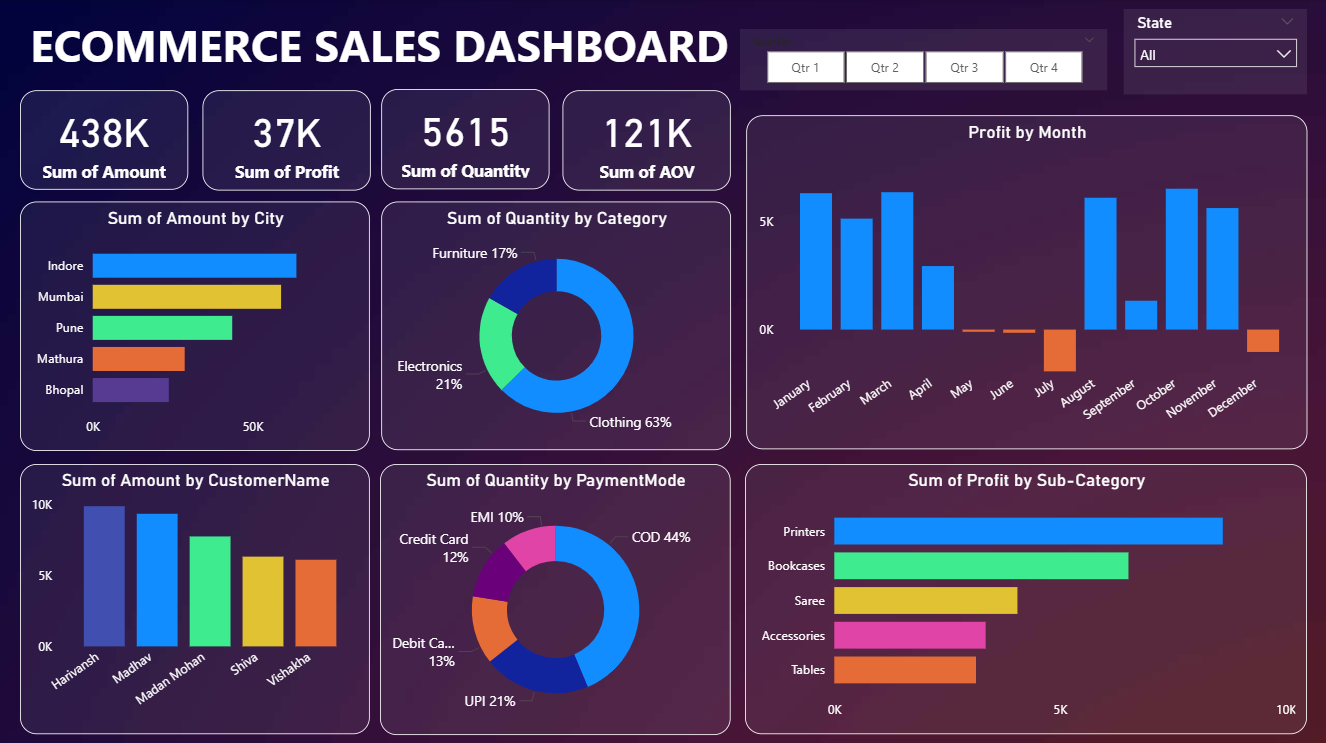

Layout of this report page (visuals, bound fields, positions):
{"tool":"powerbi","page":{"name":"Page 1","canvas":[1280,720],"ordinal":0},"visuals":[{"type":"textbox","box":[8.4,9.8,699.7,78.5],"z":0},{"type":"columnChart","title":"Profit by Month","fields":{"Y":["Details.Profit"],"Category":["Orders.Order Date.Variation.Date Hierarchy.Month"]},"box":[720.8,112.2,541.3,322.5],"z":1000},{"type":"barChart","fields":{"Category":["Details.Sub-Category"],"Y":["Details.Profit"]},"box":[719.4,448.7,542.7,260.8],"z":2000},{"type":"donutChart","fields":{"Category":["Details.Category"],"Y":["Details.Quantity"]},"box":[367.4,194.9,337.9,239.8],"z":3000},{"type":"donutChart","fields":{"Y":["Details.Quantity"],"Category":["Details.PaymentMode"]},"box":[367.1,448.6,338.6,261.4],"z":4000},{"type":"card","fields":{"Values":["Details.Amount"]},"box":[19.6,88.3,162,96],"z":5000},{"type":"card","fields":{"Values":["Details.Profit"]},"box":[194.9,88.3,162.7,96.8],"z":6000},{"type":"card","fields":{"Values":["Details.Quantity"]},"box":[367.4,86.9,162,96.8],"z":7000},{"type":"card","fields":{"Values":["Details.AOV"]},"box":[542.7,88.3,162.7,96.8],"z":8000},{"type":"barChart","fields":{"Category":["Orders.City"],"Y":["Details.Amount"]},"box":[19.6,194.9,337.9,241.2],"z":9000},{"type":"columnChart","fields":{"Category":["Orders.CustomerName"],"Y":["Details.Amount"]},"box":[19.6,448.7,337.9,260.8],"z":10000},{"type":"slicer","fields":{"Values":["Orders.Order Date.Variation.Date Hierarchy.Quarter"]},"box":[714.7,29.3,354.7,59.3],"z":11000},{"type":"slicer","fields":{"Values":["Orders.State"]},"box":[1084.1,9.6,177,82.3],"z":12000}]}

Visuals, with their boxes in screenshot pixels (x1, y1, x2, y2), scaled from the page's 1280x720 canvas onto the 1326x743 screenshot:
textbox: bbox=(9, 10, 734, 91)
"Profit by Month" columnChart: bbox=(747, 116, 1307, 449)
barChart - Details.Sub-Category x Details.Profit: bbox=(745, 463, 1307, 732)
donutChart - Details.Category x Details.Quantity: bbox=(381, 201, 731, 449)
donutChart - Details.Quantity x Details.PaymentMode: bbox=(380, 463, 731, 733)
card - Details.Amount: bbox=(20, 91, 188, 190)
card - Details.Profit: bbox=(202, 91, 370, 191)
card - Details.Quantity: bbox=(381, 90, 548, 190)
card - Details.AOV: bbox=(562, 91, 731, 191)
barChart - Orders.City x Details.Amount: bbox=(20, 201, 370, 450)
columnChart - Orders.CustomerName x Details.Amount: bbox=(20, 463, 370, 732)
slicer - Orders.Order Date.Variation.Date Hierarchy.Quarter: bbox=(740, 30, 1108, 91)
slicer - Orders.State: bbox=(1123, 10, 1306, 95)
